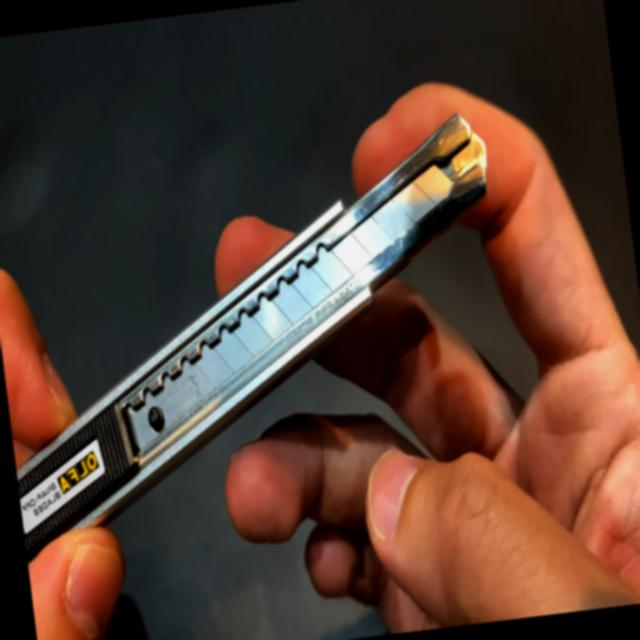cutter: (0, 17, 563, 633)
